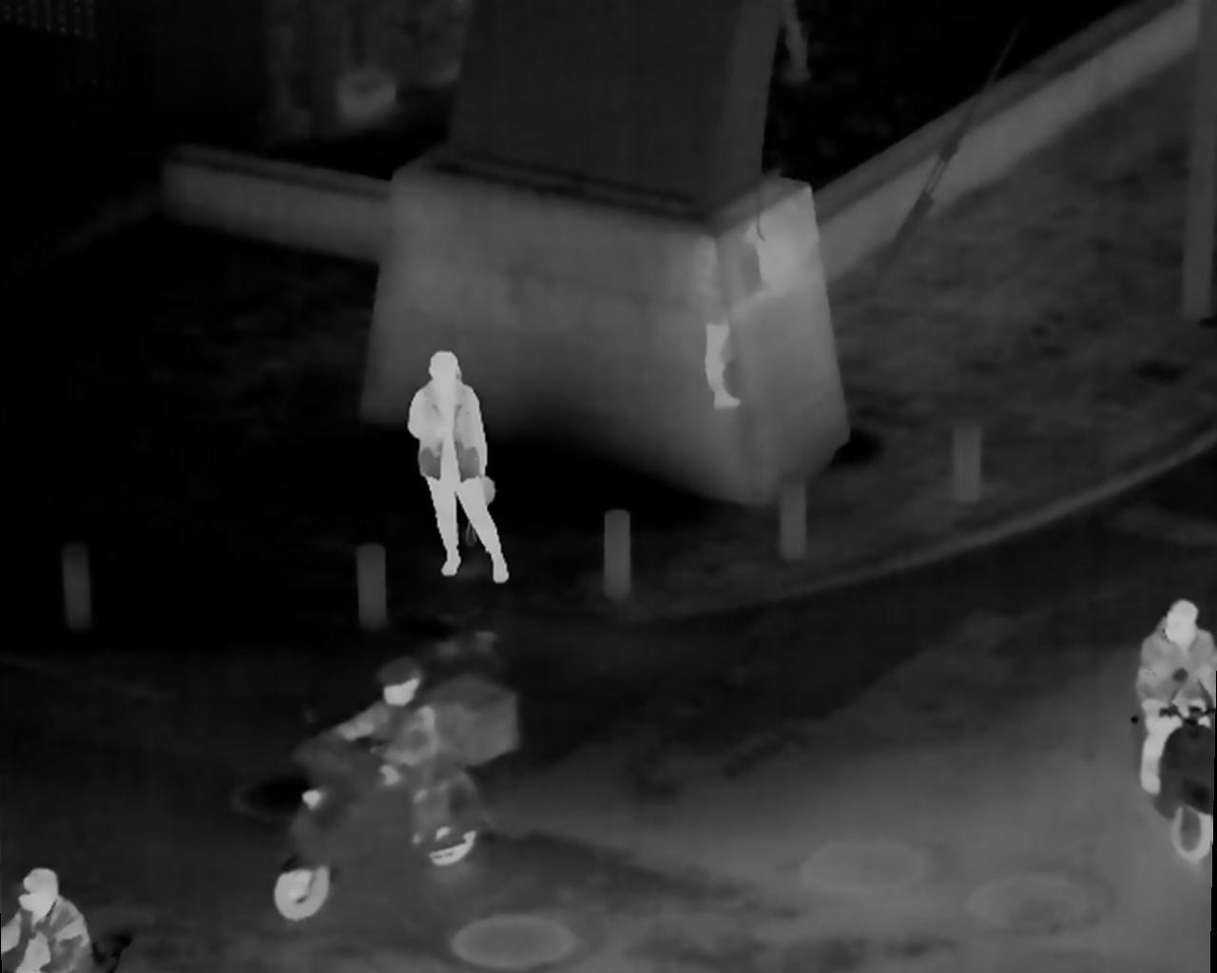person: (299, 673, 483, 867), (404, 348, 513, 580), (1133, 603, 1217, 864)
